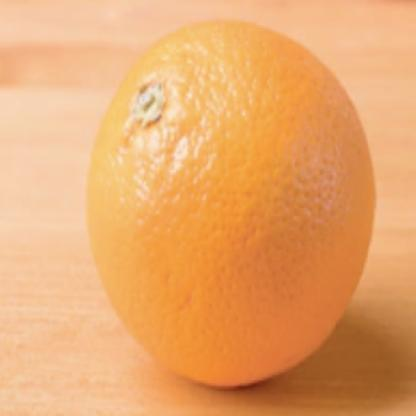fresh: (89, 19, 375, 386)
